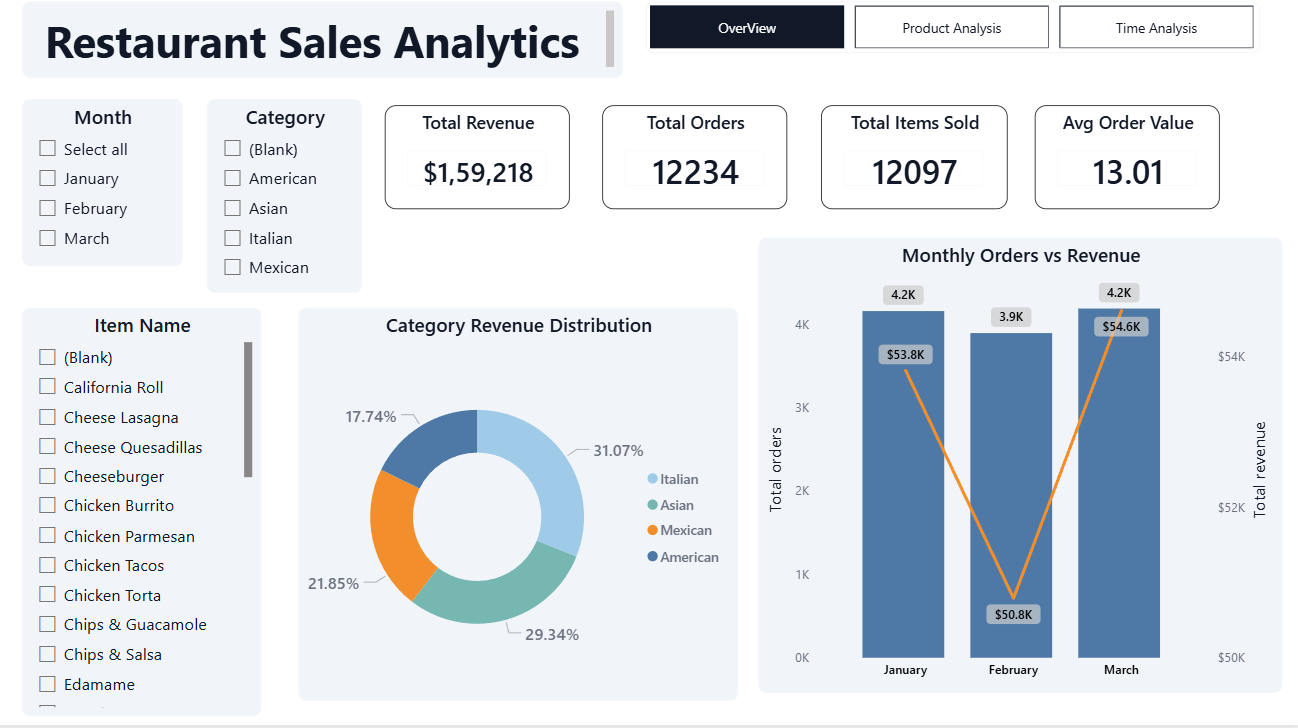

The dashboard page shown, as its layout file describes it:
{"tool":"powerbi","page":{"name":"OverView","canvas":[1280,720],"ordinal":0},"visuals":[{"type":"cardVisual","title":"Avg Order Value","fields":{"Data":["restaurant_db menu_items.Average Order Value"]},"box":[1019.6,113.9,181.1,101.5],"z":0},{"type":"cardVisual","title":"Total Revenue","fields":{"Data":["restaurant_db menu_items.Total revenue"]},"box":[384.2,113.9,181.1,101.5],"z":1000},{"type":"cardVisual","title":"Total Orders","fields":{"Data":["restaurant_db menu_items.Total orders"]},"box":[596.9,113.9,181.1,101.5],"z":2000},{"type":"cardVisual","title":" Total Items Sold","fields":{"Data":["restaurant_db menu_items.Items Sold"]},"box":[811,113.9,182.5,101.5],"z":3000},{"type":"slicer","title":"Month","fields":{"Values":["DateTable.Month Name"]},"box":[30.2,107,156.4,163.3],"z":4000},{"type":"lineClusteredColumnComboChart","title":"Monthly Orders vs Revenue","fields":{"Category":["DateTable.Month Name"],"Y2":["restaurant_db menu_items.Total revenue"],"Y":["restaurant_db menu_items.Total orders"]},"box":[750.1,243.1,511.9,444.7],"z":5000},{"type":"slicer","title":"Category","fields":{"Values":["restaurant_db menu_items.category"]},"box":[211.3,107,150.9,189.4],"z":6000},{"type":"slicer","title":"Item Name","fields":{"Values":["restaurant_db menu_items.item_name"]},"box":[30.2,311.5,233.3,399.3],"z":7000},{"type":"textbox","box":[30.2,12.3,587.3,74.1],"z":8000},{"type":"donutChart","title":"Category Revenue Distribution","fields":{"Category":["restaurant_db menu_items.category"],"Y":["restaurant_db menu_items.Total revenue"]},"box":[300.5,311.5,429.5,384.2],"z":9000},{"type":"pageNavigator","box":[640.1,12.2,599.8,50.1],"z":10000}]}

Visuals, with their boxes in screenshot pixels (x1, y1, x2, y2), scaled from the page's 1280x720 canvas onto the 1298x728 screenshot:
"Avg Order Value" cardVisual: [left=1034, top=115, right=1218, bottom=218]
"Total Revenue" cardVisual: [left=390, top=115, right=573, bottom=218]
"Total Orders" cardVisual: [left=605, top=115, right=789, bottom=218]
" Total Items Sold" cardVisual: [left=822, top=115, right=1007, bottom=218]
"Month" slicer: [left=31, top=108, right=189, bottom=273]
"Monthly Orders vs Revenue" lineClusteredColumnComboChart: [left=761, top=246, right=1280, bottom=695]
"Category" slicer: [left=214, top=108, right=367, bottom=300]
"Item Name" slicer: [left=31, top=315, right=267, bottom=719]
textbox: [left=31, top=12, right=626, bottom=87]
"Category Revenue Distribution" donutChart: [left=305, top=315, right=740, bottom=703]
pageNavigator: [left=649, top=12, right=1257, bottom=63]
